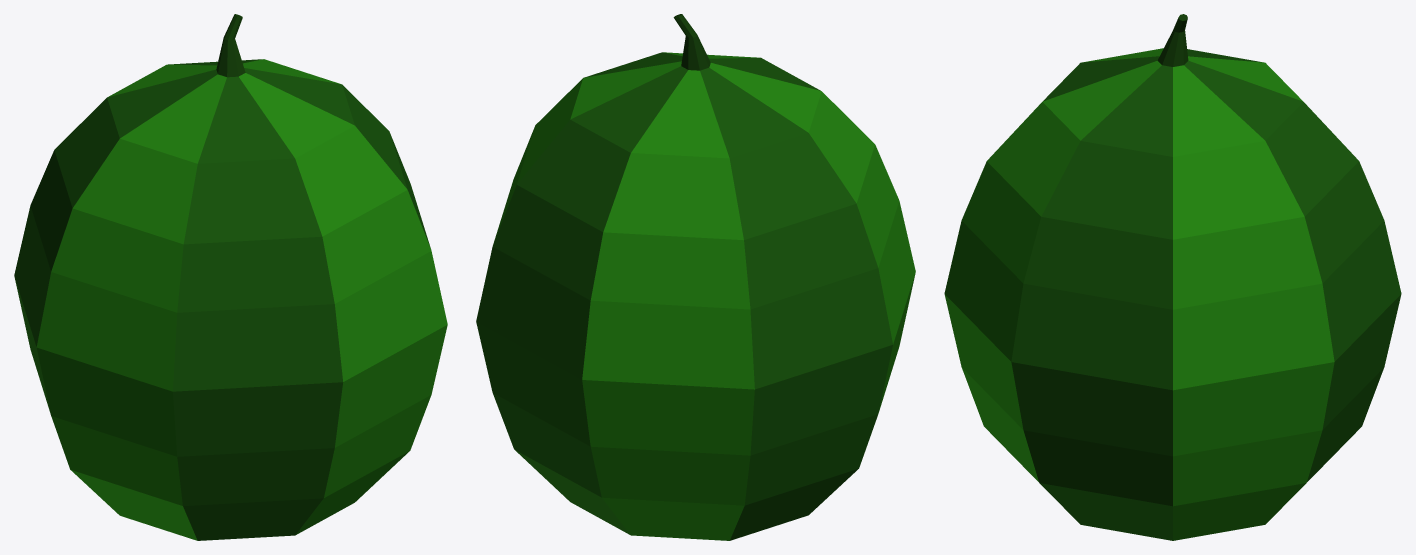
The picture shows the model from 3 angles, left to right: view 1: azimuth 30°, elevation 25°; view 2: azimuth 150°, elevation 25°; view 3: azimuth 270°, elevation 25°; orthographic projection.
Visible parts, largest first — view 1: Watermelon_Sphere; view 2: Watermelon_Sphere; view 3: Watermelon_Sphere.
Boxes of the visible parts, <box> form: Watermelon_Sphere: <box>14,14,447,540</box>; Watermelon_Sphere: <box>476,14,915,540</box>; Watermelon_Sphere: <box>944,14,1401,540</box>.
Bounding box in the file's own units: 3.72 × 4.68 × 3.72.
1 material, 1 textured.
